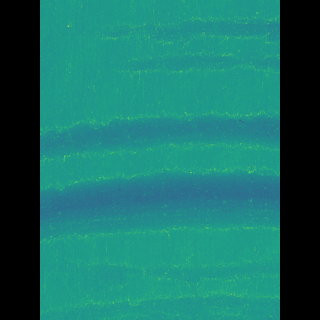Loch: (71, 169, 251, 238), (72, 253, 251, 320), (115, 8, 250, 86), (69, 109, 250, 159)
